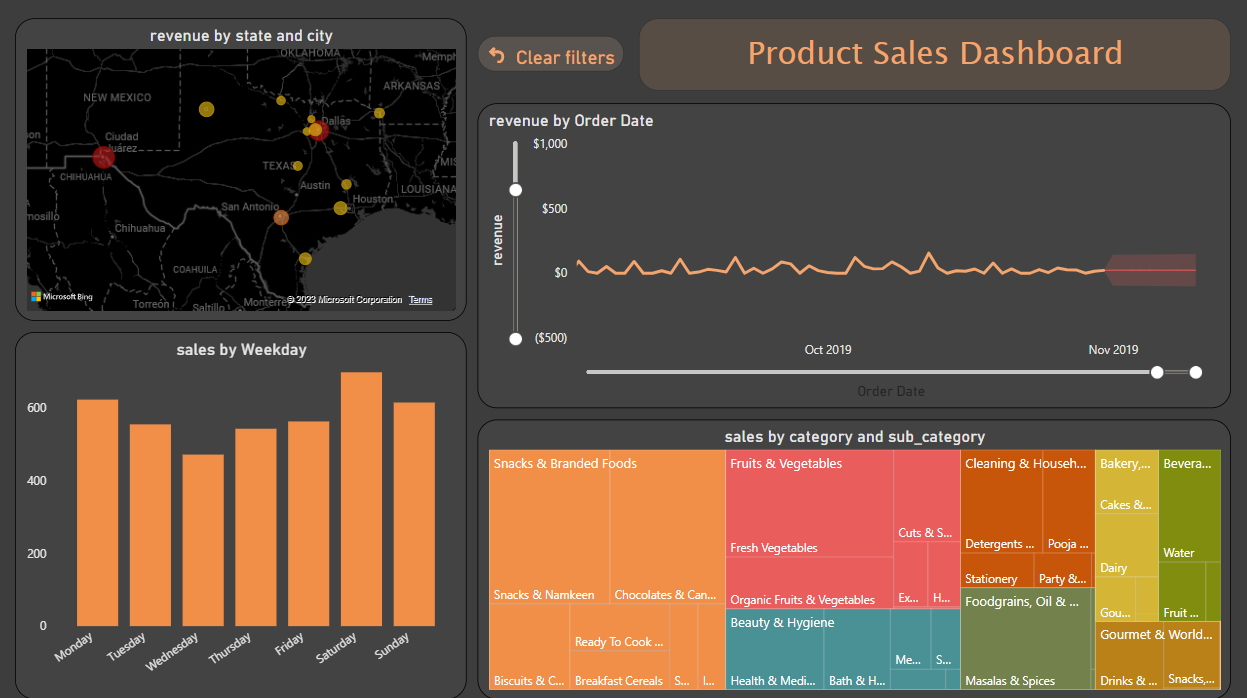

What the dashboard file says about the page in this screenshot:
{"tool":"powerbi","page":{"name":"Page 2","canvas":[1280,720],"ordinal":5},"visuals":[{"type":"clusteredColumnChart","fields":{"Y":["Sum(sales2018-2019.sales)"],"Category":["Date Dimension.Weekday"]},"box":[789.8,9.7,394.9,321],"z":0},{"type":"map","fields":{"Category":["stores.state","stores.city"],"Size":["Sum(sales2018-2019.revenue)"]},"box":[64.2,9.7,421.2,321],"z":1000},{"type":"filledMap","fields":{"Category":["stores.state"],"Series":["stores.state"]},"box":[64.2,376.4,421.2,321],"z":2000},{"type":"lineChart","fields":{"Y":["Sum(sales2018-2019.revenue)"],"Category":["sales2018-2019.Order Date"]},"box":[776.2,367.7,421.2,321],"z":3000},{"type":"actionButton","box":[533,507.7,124.5,39.9],"z":4000}]}

Visuals, with their boxes in screenshot pixels (x1, y1, x2, y2), scaled from the page's 1280x720 canvas onto the 1247x698 screenshot:
clusteredColumnChart - Sum(sales2018-2019.sales) x Date Dimension.Weekday: bbox(769, 9, 1154, 321)
map - stores.state x stores.city: bbox(63, 9, 473, 321)
filledMap - stores.state x stores.state: bbox(63, 365, 473, 676)
lineChart - Sum(sales2018-2019.revenue) x sales2018-2019.Order Date: bbox(756, 356, 1167, 668)
actionButton: bbox(519, 492, 641, 531)
